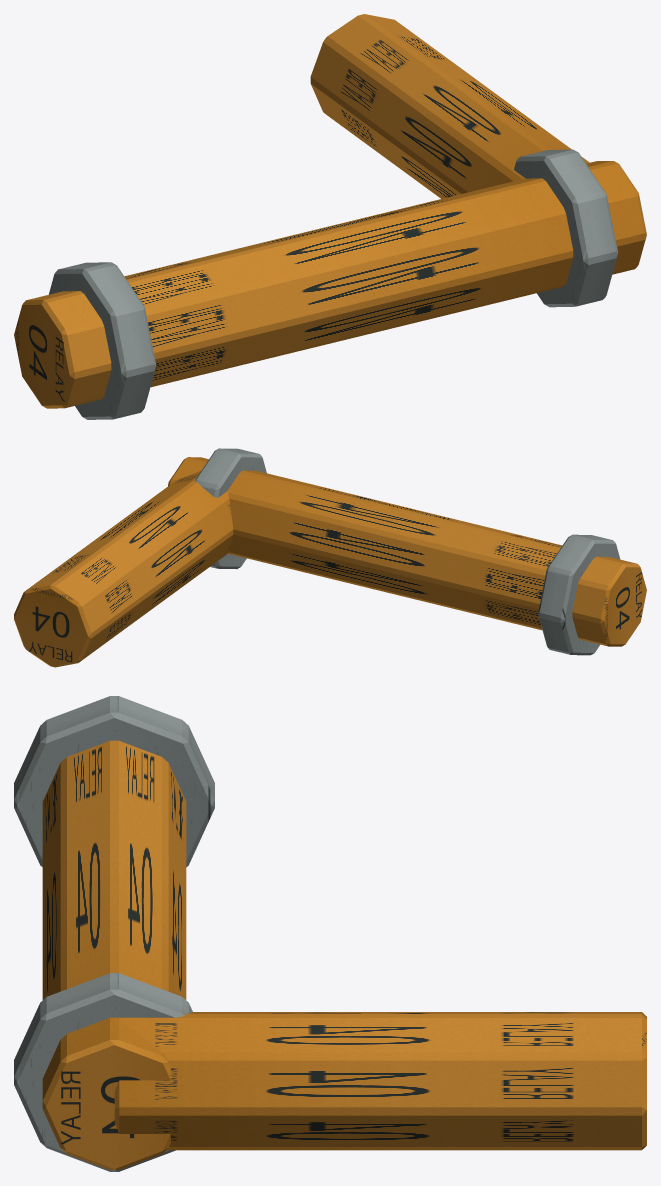
Rendered from pipe_elbow_LOD2.obj.
3 views of the same model, one above another, from view 1: azimuth 30°, elevation 25°; view 2: azimuth 150°, elevation 25°; view 3: azimuth 270°, elevation 25° (orthographic). The views are drawn at different scales.
Parts seen in each view (by area): view 1: L02_pipe_elbow_LOD2; view 2: L02_pipe_elbow_LOD2; view 3: L02_pipe_elbow_LOD2.
Part boxes in pixels (bbox=[...]): L02_pipe_elbow_LOD2: bbox=[14, 14, 646, 419]; L02_pipe_elbow_LOD2: bbox=[14, 448, 646, 667]; L02_pipe_elbow_LOD2: bbox=[14, 696, 646, 1171].
Size of the model in its own units: 2.03 by 0.4908 by 1.55.
Materials: 1 (1 with a texture image).
